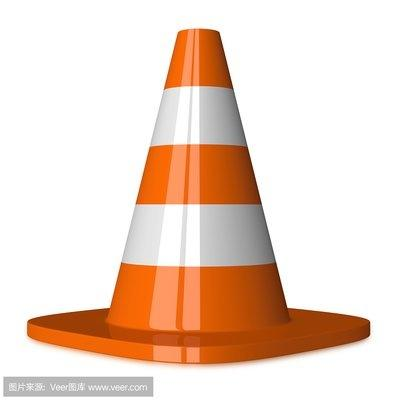cone_barrel: (91, 28, 304, 346)
